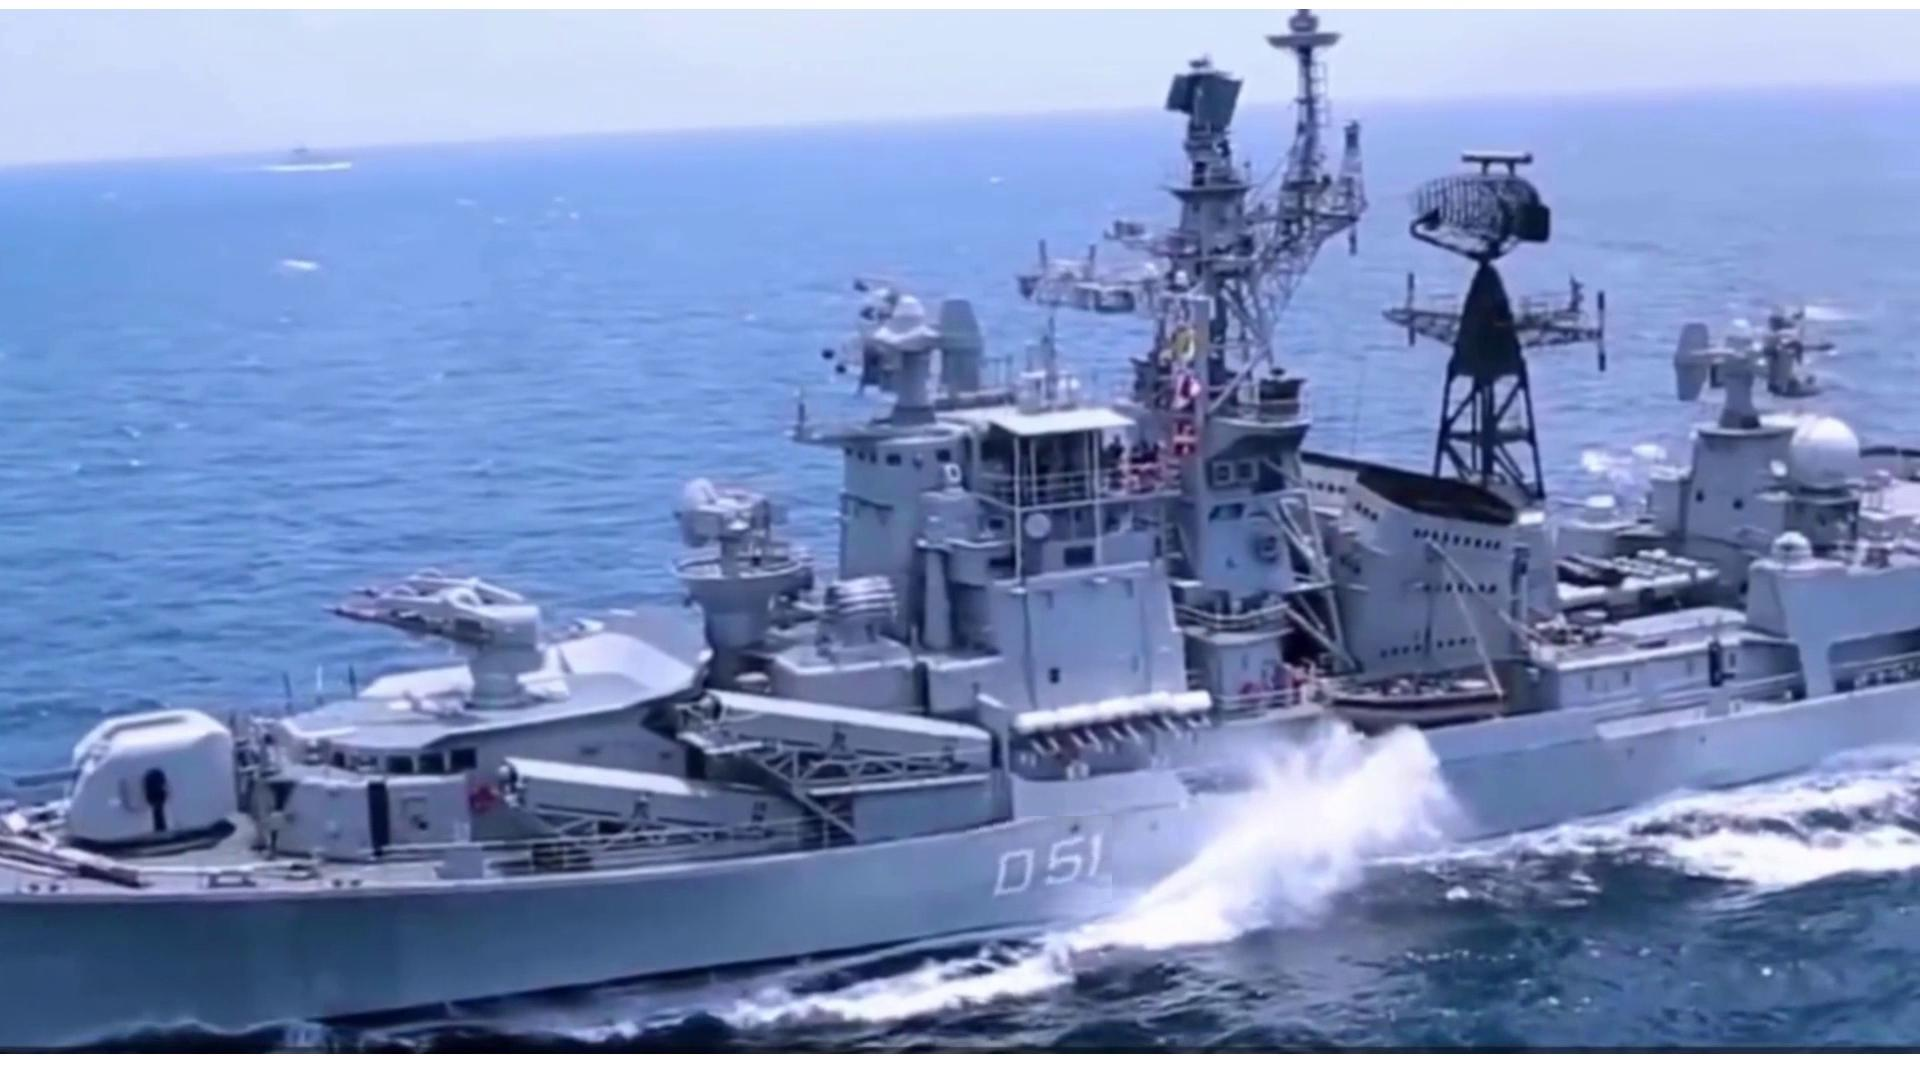OCR: (958, 816, 1112, 915)
